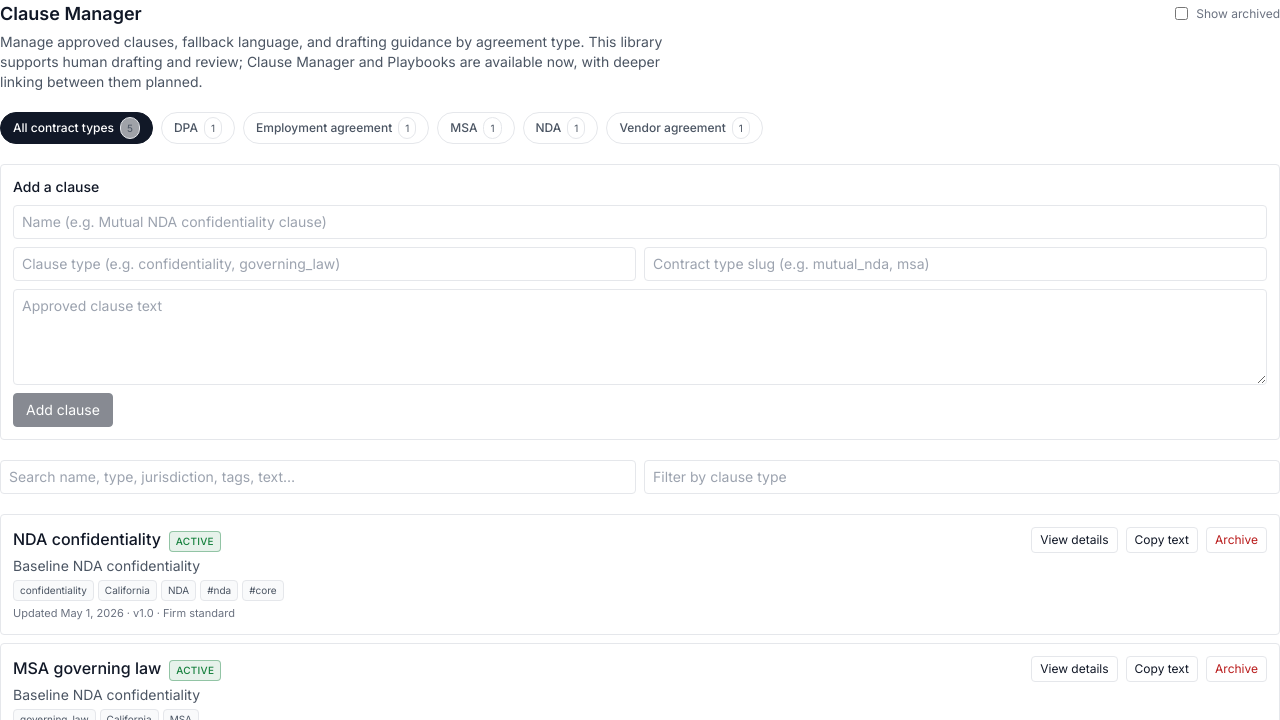
ClauseLibraryPage › closes the detail drawer without resetting the active contract-type filter
The width and height of the screenshot is (1280, 720).
Expected: the text "NDA confidentiality" is shown, x1=13 y1=527 x2=161 y2=551
Click the button with test id "clause-contract-type-chip": (476, 128) x1=437 y1=112 x2=514 y2=144
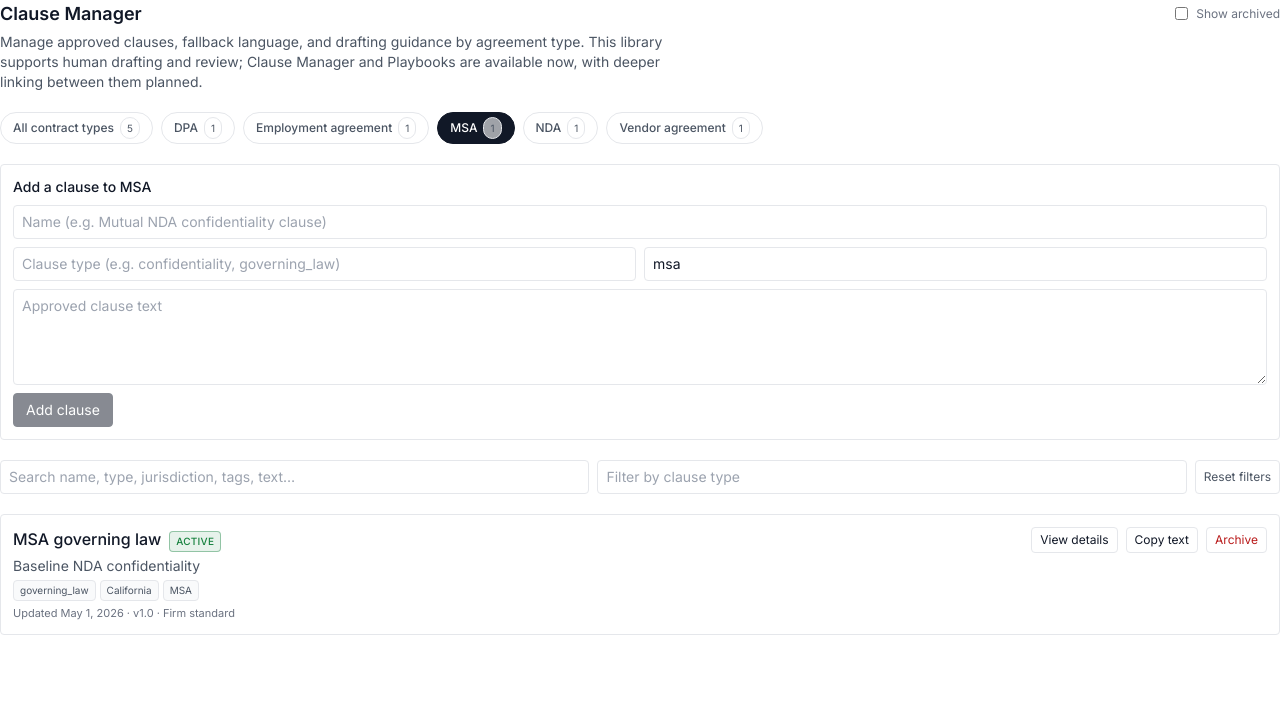
Expected: the text "MSA governing law" is shown, x1=13 y1=527 x2=161 y2=551
Click the button with test id "clause-toggle": (1074, 540) x1=1031 y1=527 x2=1118 y2=553
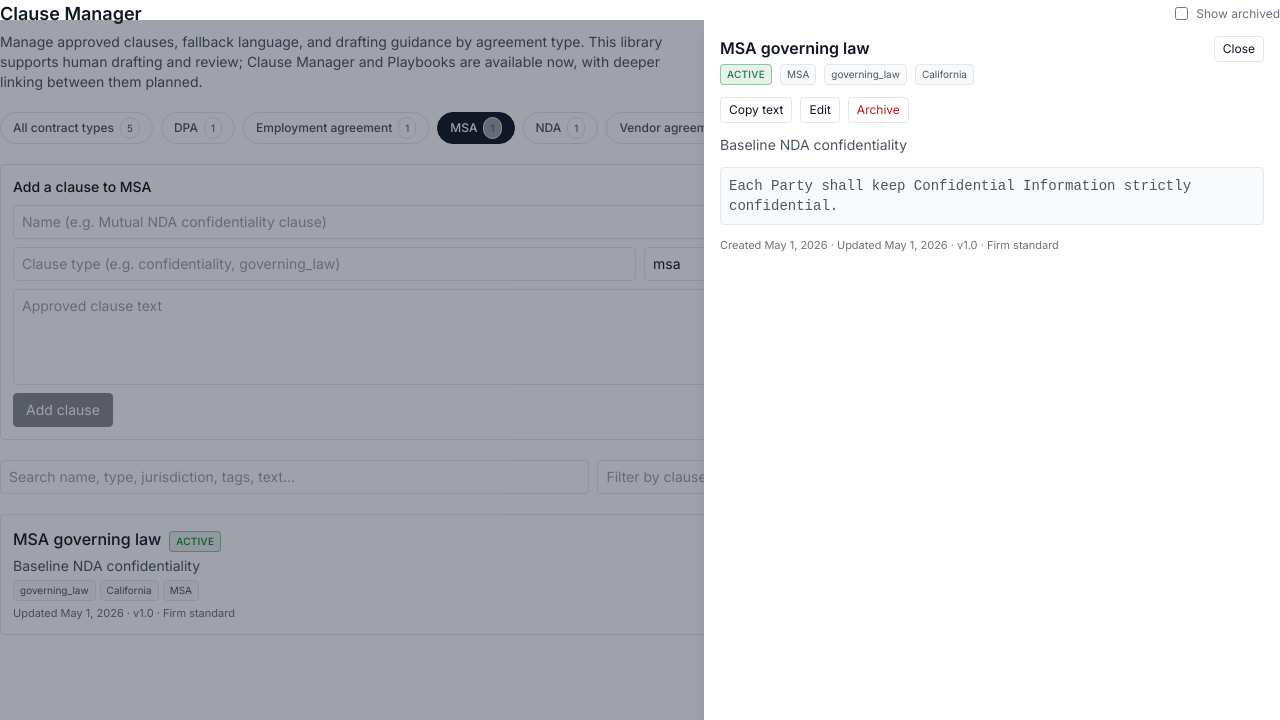
Expected: the dialog with test id "clause-detail" is shown
Click the button with test id "clause-detail-close": (1239, 49) x1=1214 y1=36 x2=1264 y2=62
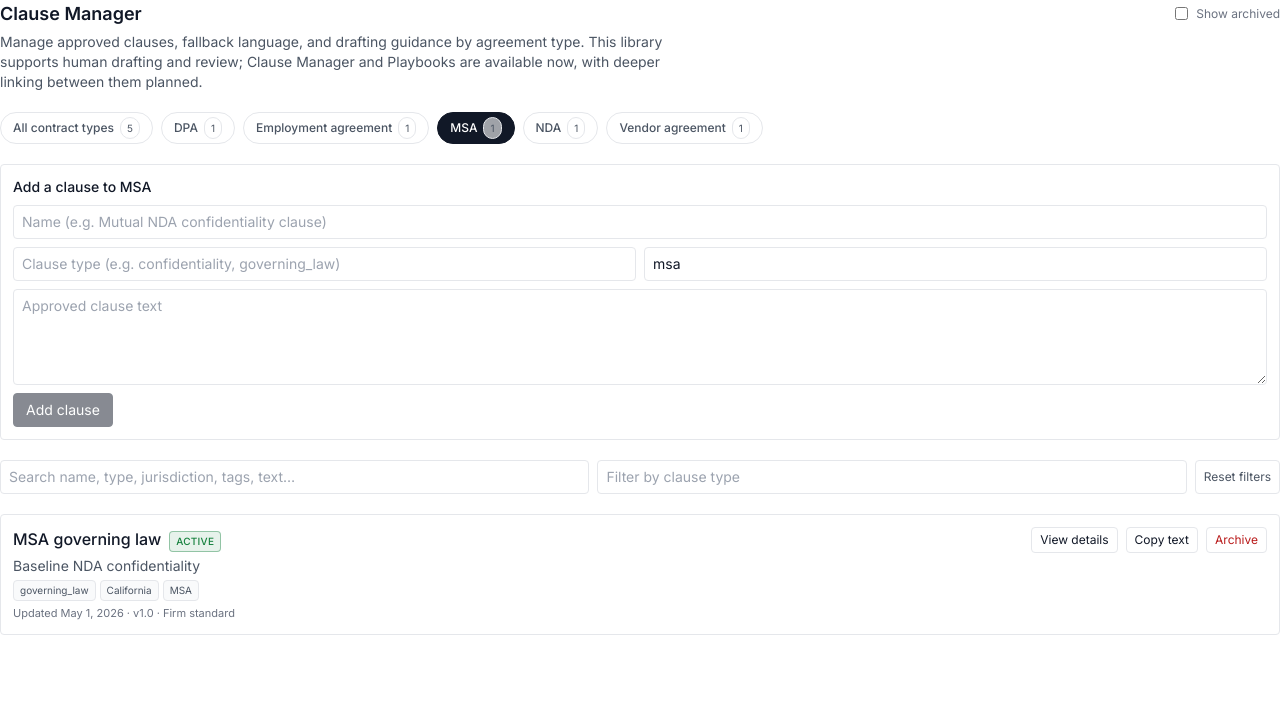
Expected: the text "MSA governing law" is shown, x1=13 y1=527 x2=161 y2=551
Expected: the dialog with test id "clause-detail" is gone
